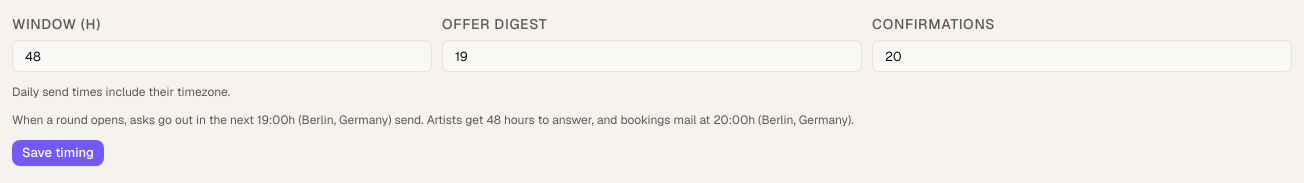
TimingStep › re-narrates as the fields are edited, before anything is saved
The width and height of the screenshot is (1304, 183).
Step 1. Replace the text in the number field showing "19" below "Offer digest" with "8" → (652, 56), box [442, 40, 862, 72]
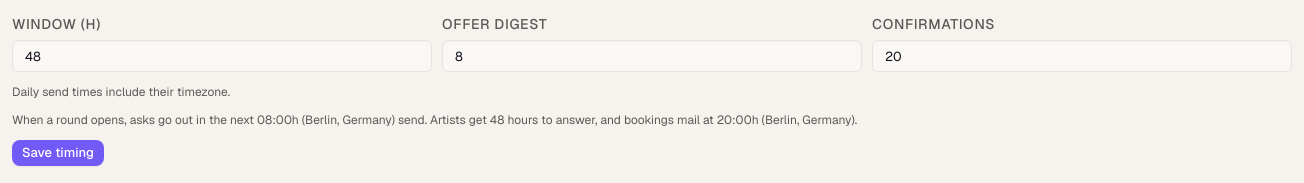
Step 2. Replace the text in the number field showing "48" below "Window (h)" with "24" → (222, 56), box [12, 40, 432, 72]
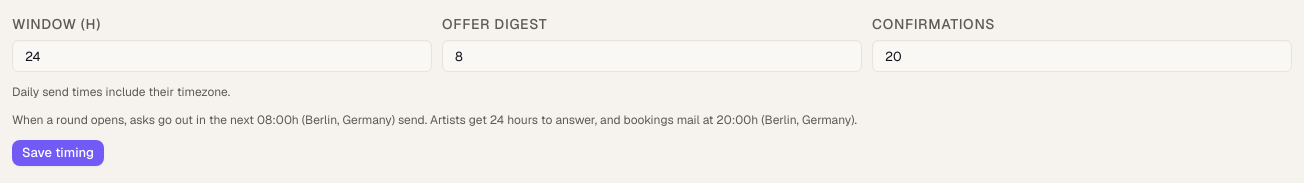
Expected: the text "When a round opens, asks go out in the next 08:00h (Berlin, Germany) send. Artists get 24 hours to answer, and bookings " is shown, [12, 112, 857, 128]
